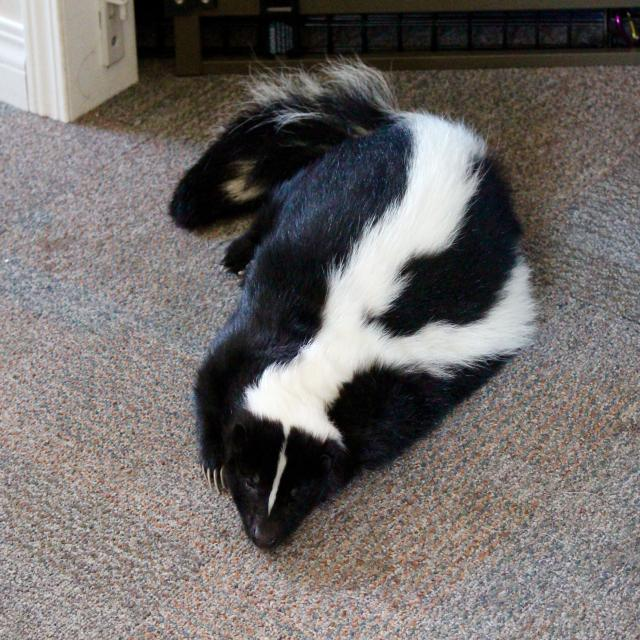Skunk: (141, 42, 565, 564)
